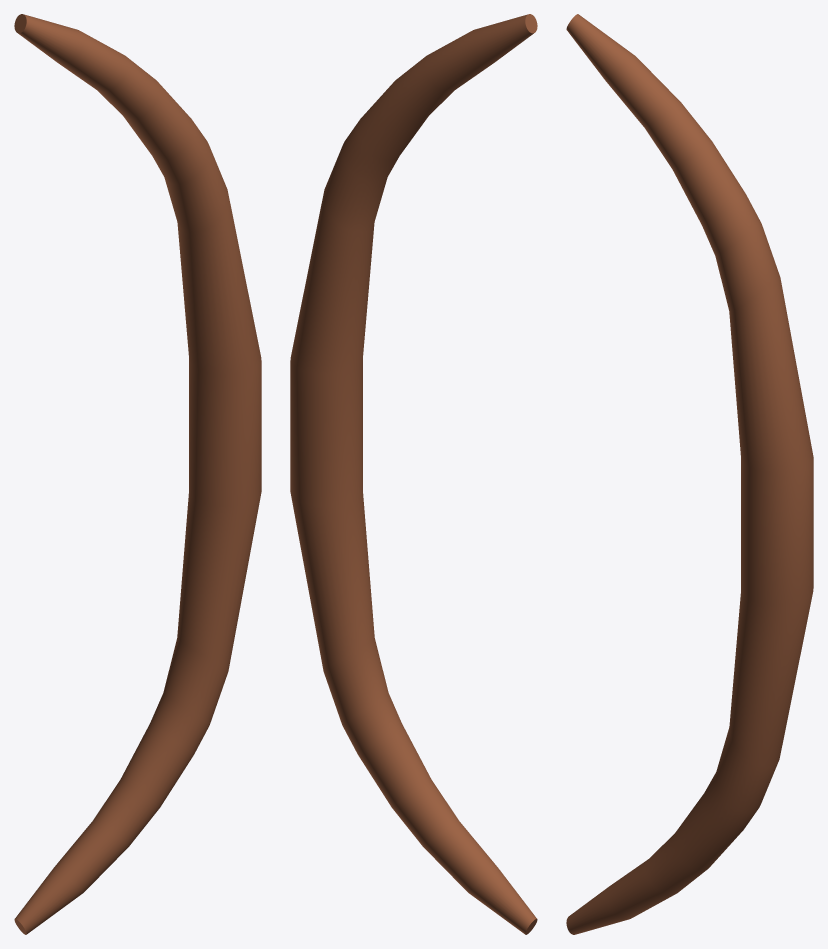
Rendered from Arc.fbx.
The picture shows the model from 3 angles, left to right: view 1: azimuth 30°, elevation 25°; view 2: azimuth 150°, elevation 25°; view 3: azimuth 330°, elevation 25°; orthographic projection.
Visible parts, largest first — view 1: Cylinder.002; view 2: Cylinder.002; view 3: Cylinder.002.
Part boxes in pixels (x1,y1,x2,y2): Cylinder.002: [14, 14, 261, 934]; Cylinder.002: [290, 14, 537, 934]; Cylinder.002: [566, 14, 813, 934].
Bounding box in the file's own units: 0.7478 × 2.74 × 0.196.
